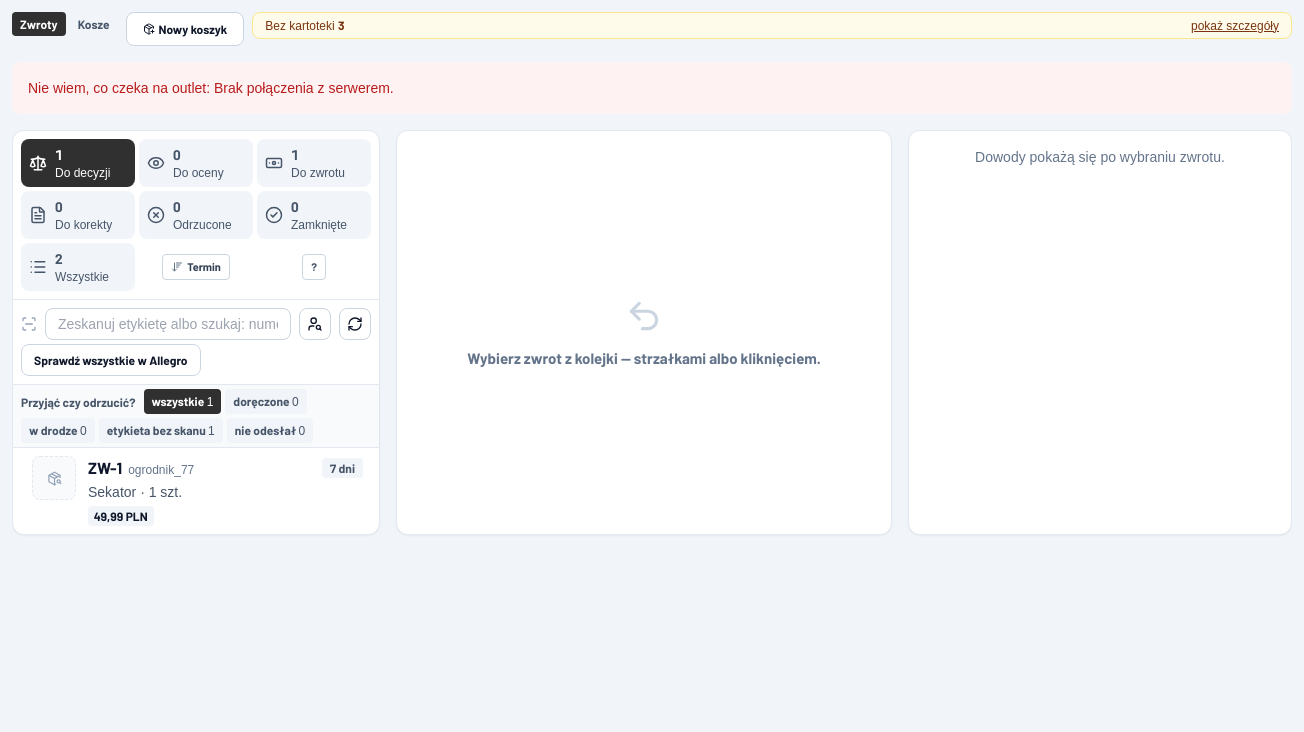
Ekran zwrotów › szuka po LOGINIE kupującego, bo to jedyny uchwyt w rozmowie (0.337.0)
Type "ogrodnik" into the field with placeholder "Zeskanuj etykietę".
click(168, 324); type("ogrodnik")  # box [45,308,291,340]
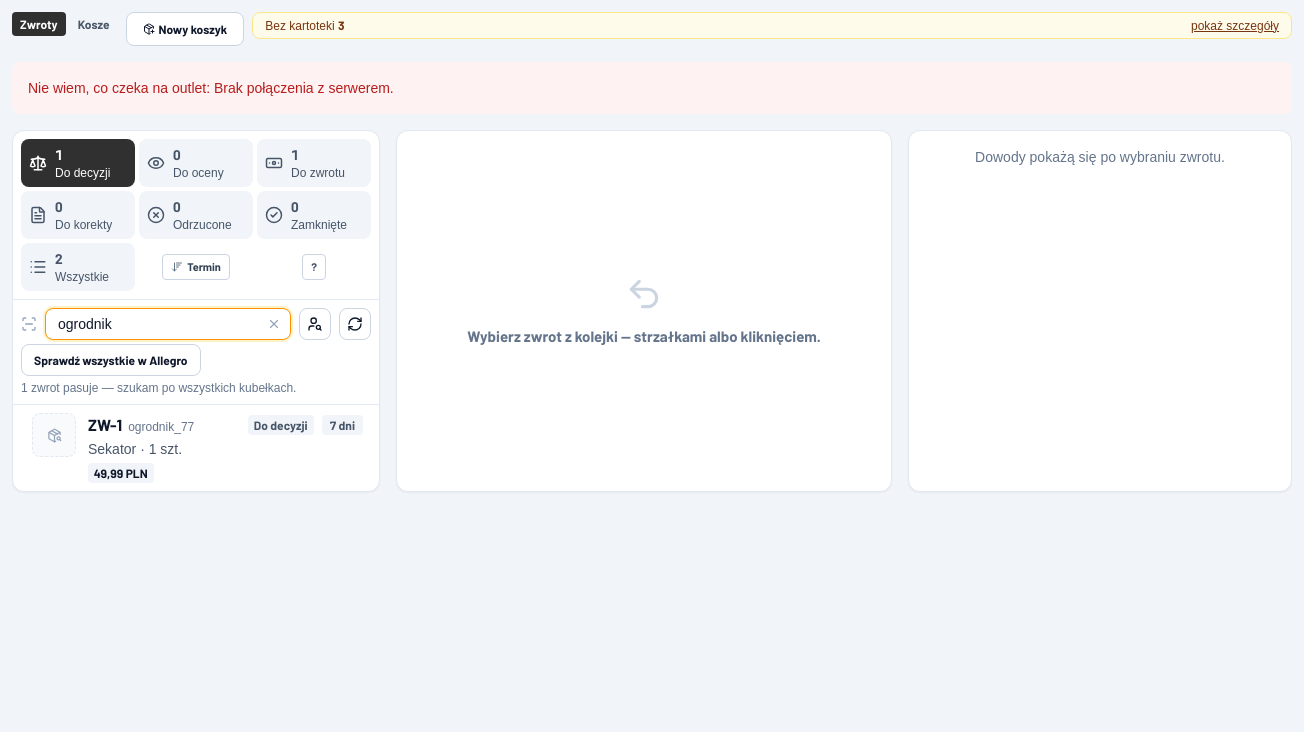
Check: the text "1 zwrot pasuje — szukam po wszystkich kubełkach." is shown, box [21,381,296,395]
